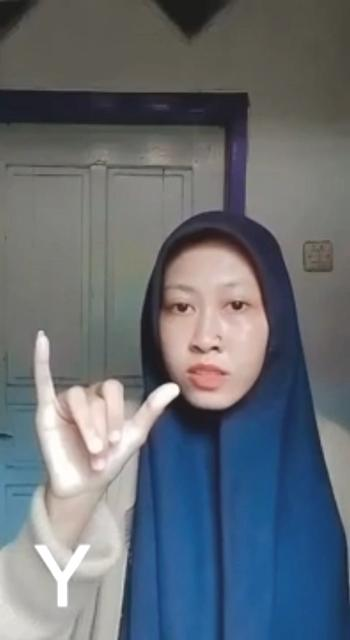Y: (27, 326, 178, 492)
